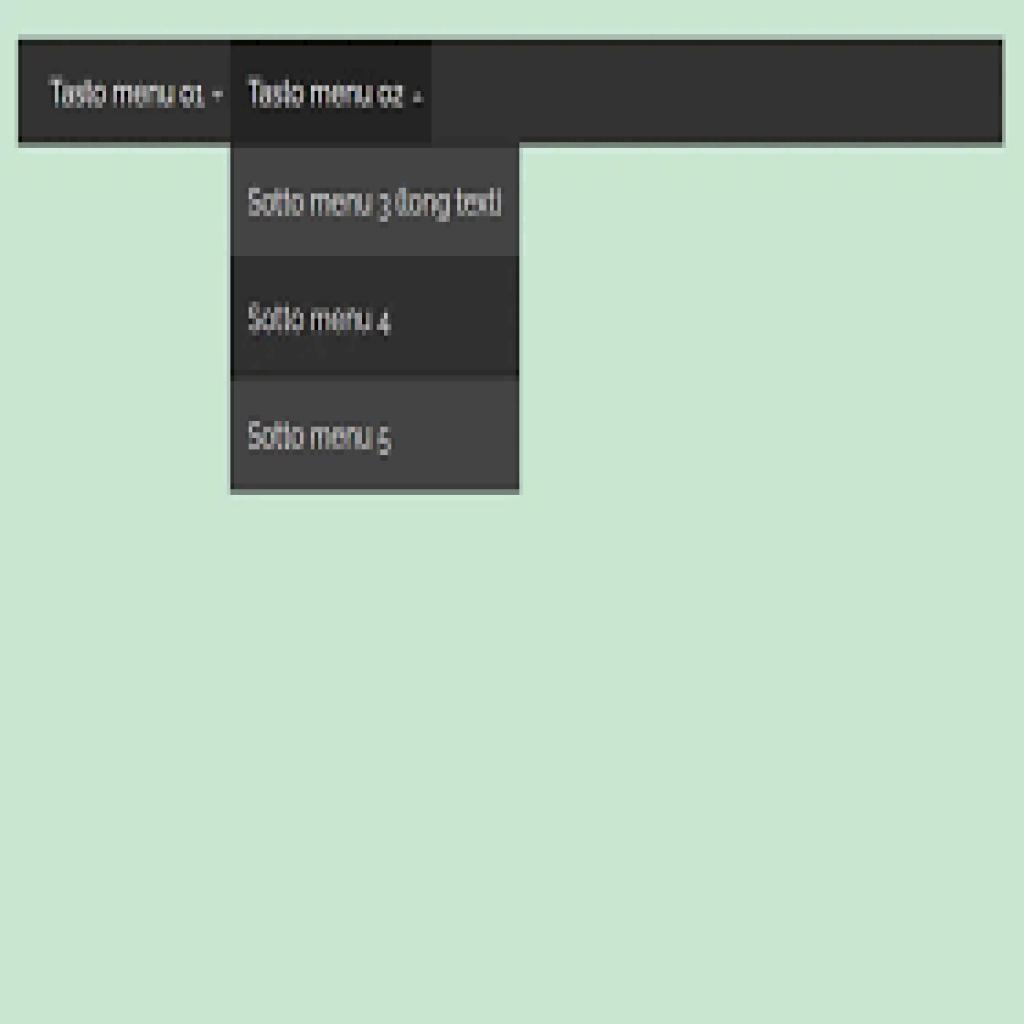dropdown: (22, 41, 231, 148), (233, 43, 438, 147)
